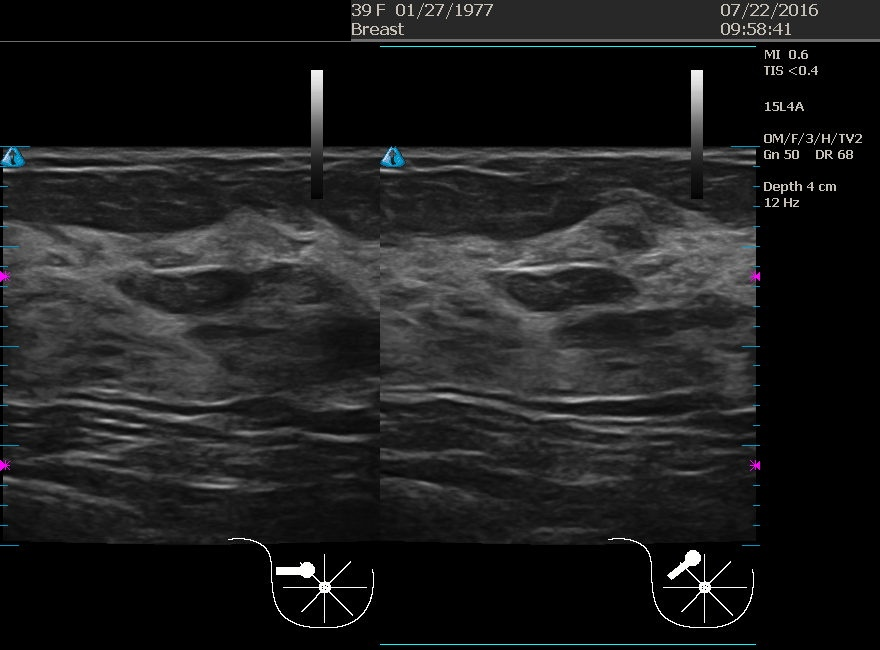Benign: (90, 193, 290, 393), (473, 198, 673, 398)
